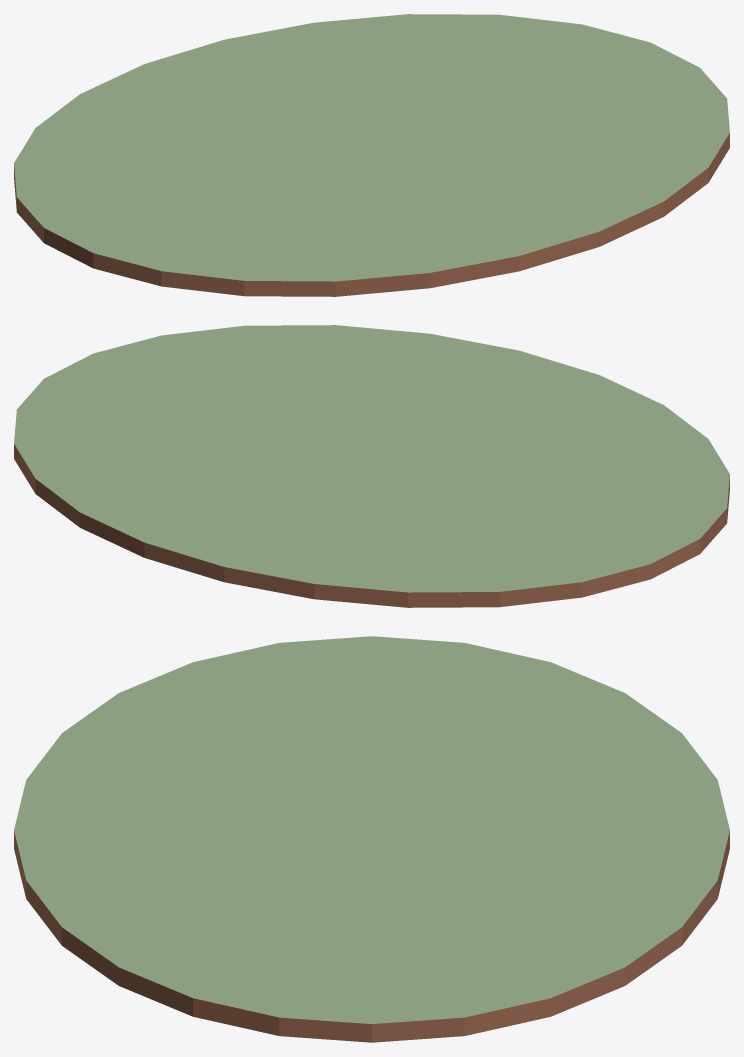
Rendered from primeval-frontier-forest-habitat-base-21bd7fdb__1781.glb.
3 views of the same model, one above another, from view 1: azimuth 30°, elevation 25°; view 2: azimuth 150°, elevation 25°; view 3: azimuth 270°, elevation 25° (orthographic). The views are drawn at different scales.
Parts seen in each view (by area): view 1: forest-habitat-base; view 2: forest-habitat-base; view 3: forest-habitat-base.
Boxes of the visible parts, x1=… form: forest-habitat-base: x1=14, y1=14, x2=729, y2=296; forest-habitat-base: x1=14, y1=325, x2=729, y2=607; forest-habitat-base: x1=14, y1=636, x2=729, y2=1042.
Size of the model in its own units: 17 by 0.3799 by 13.26.
